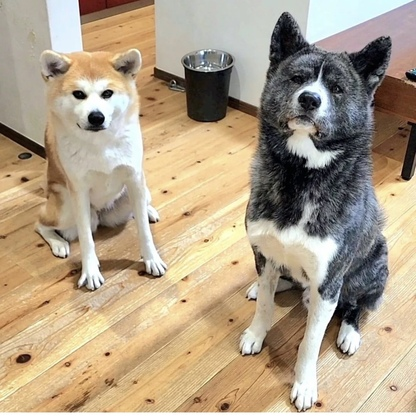akita: (232, 8, 403, 416), (16, 39, 171, 295)
